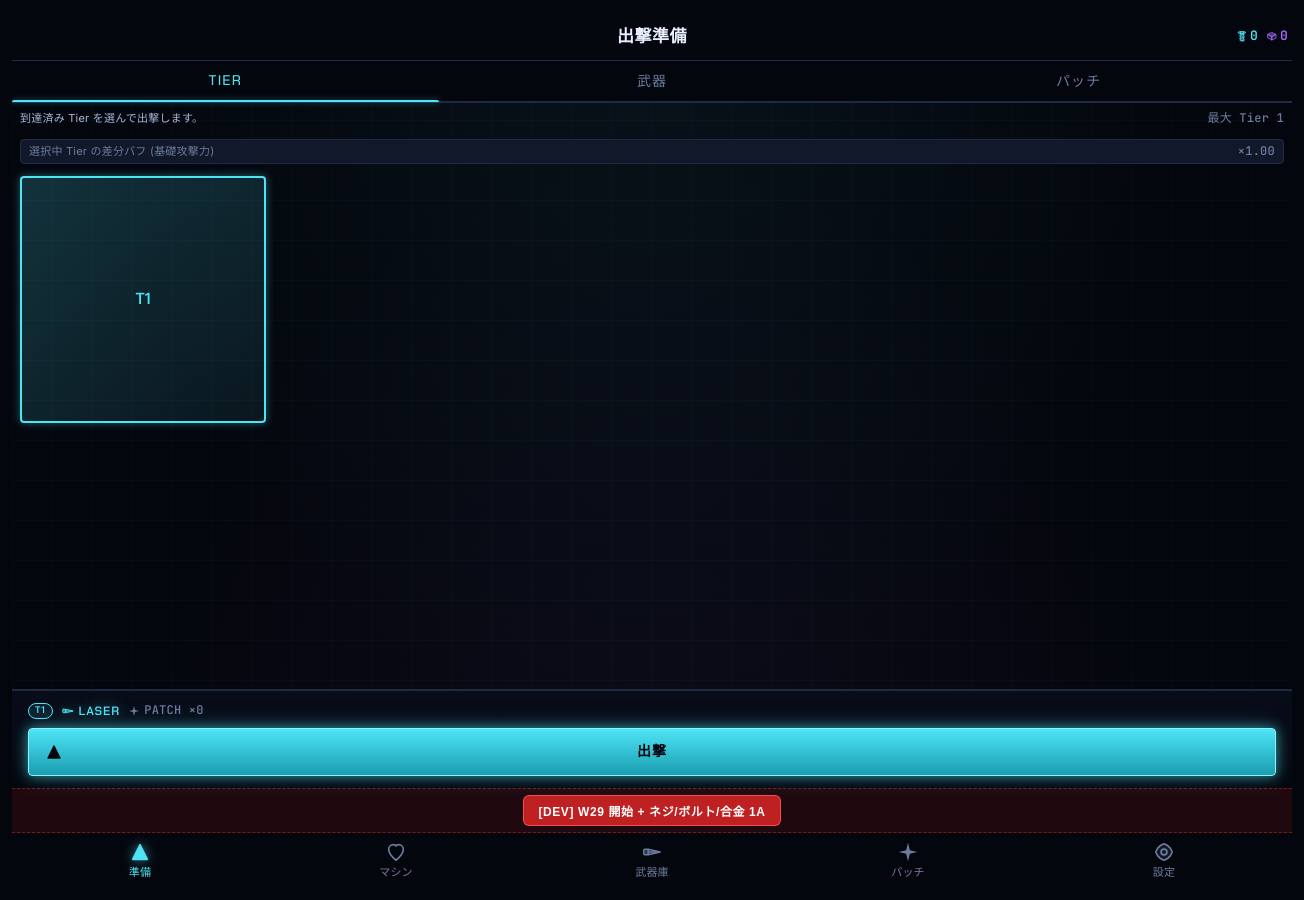
Scenario: PreparationScreen Page › タブ切替: 「武器」クリックで InitialWeaponTab が表示される
This screenshot has width=1304, height=900.
Click the tab "武器".
click(652, 81)  # box x1=439 y1=61 x2=865 y2=101
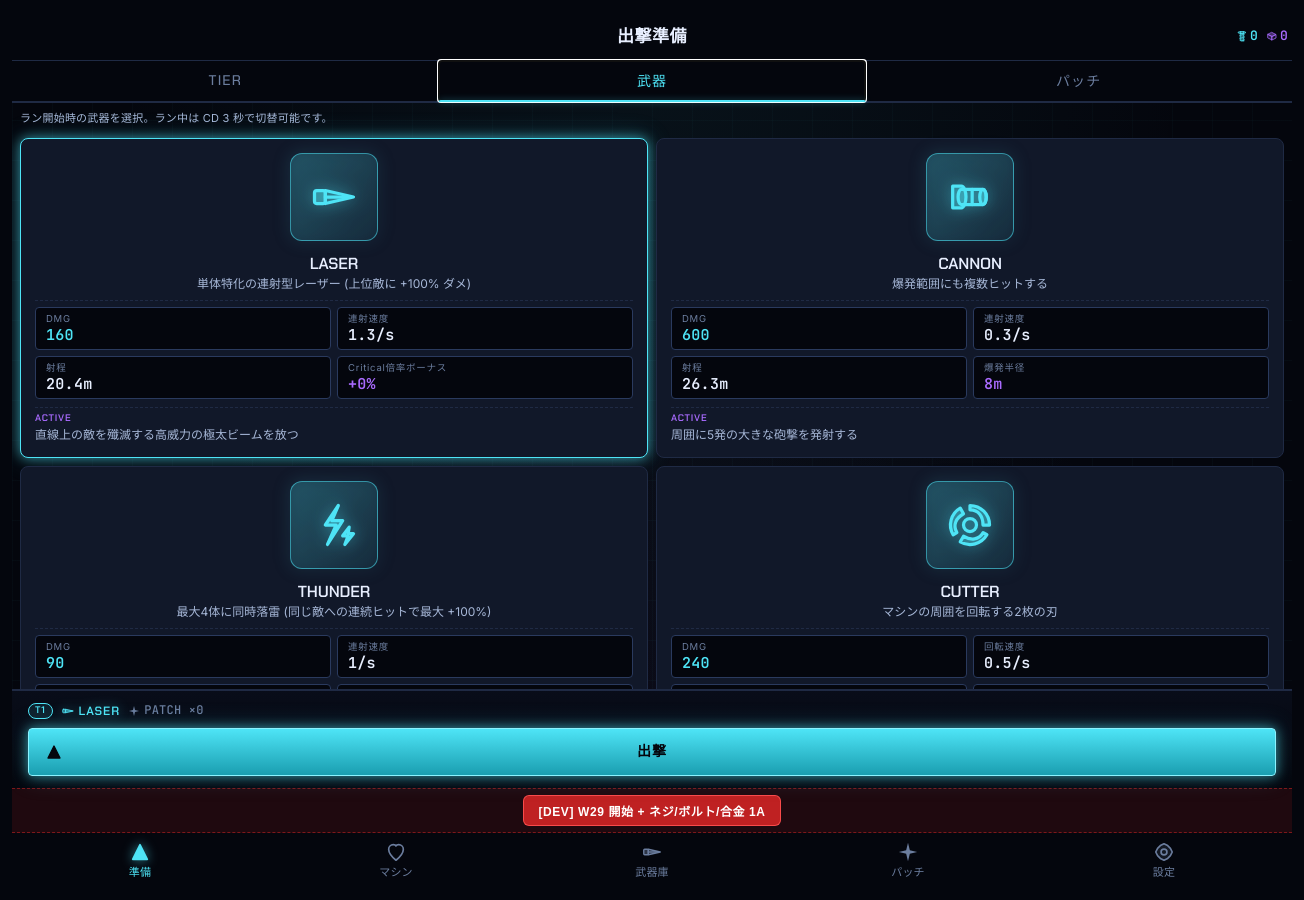
expect the panel named "初期武器選択" is shown: met
